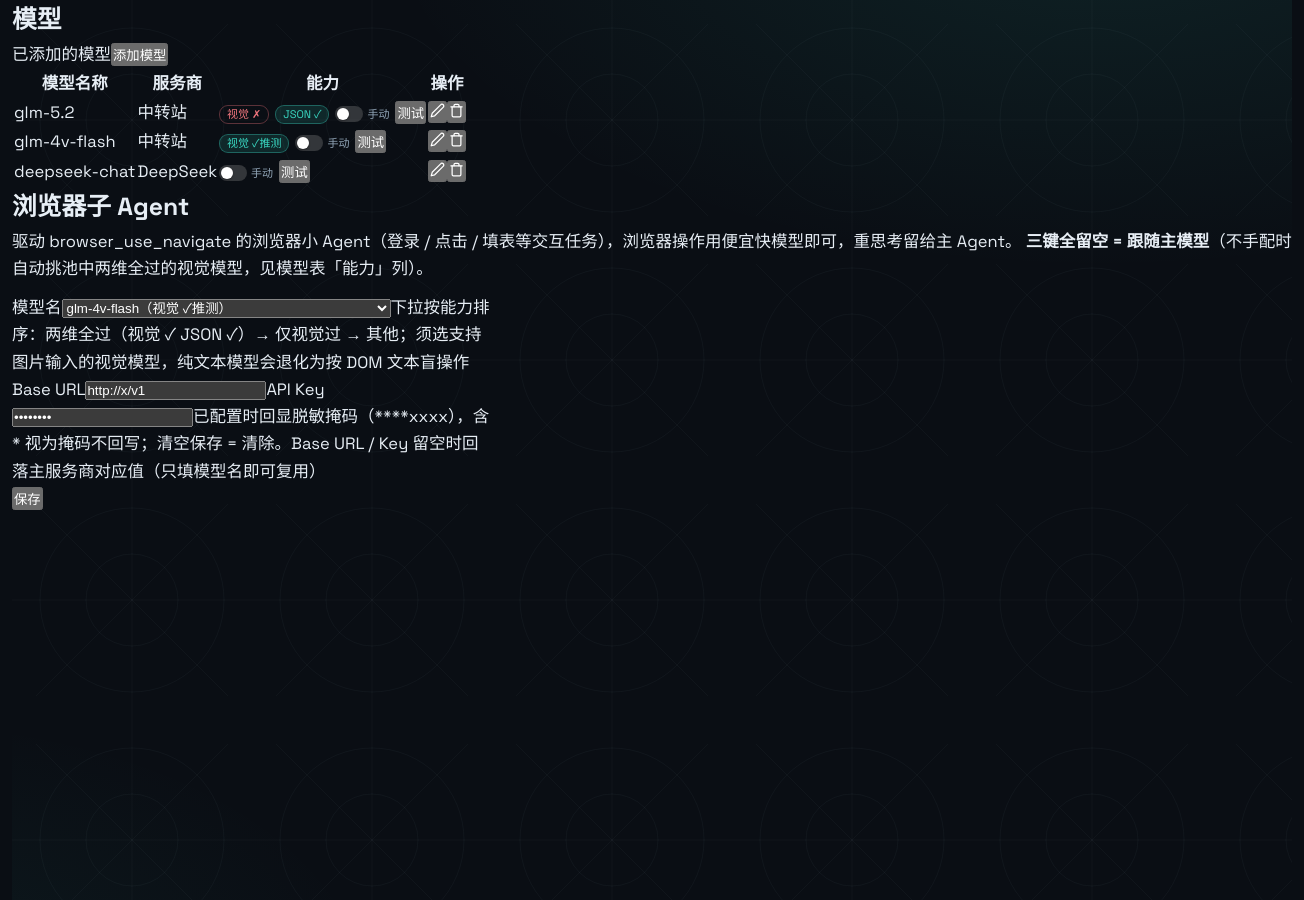
Test: SettingsModels：获取模型列表 › discover 失败展示人话错误
Click the button "添加模型".
click(140, 54)  # box [111, 43, 168, 66]
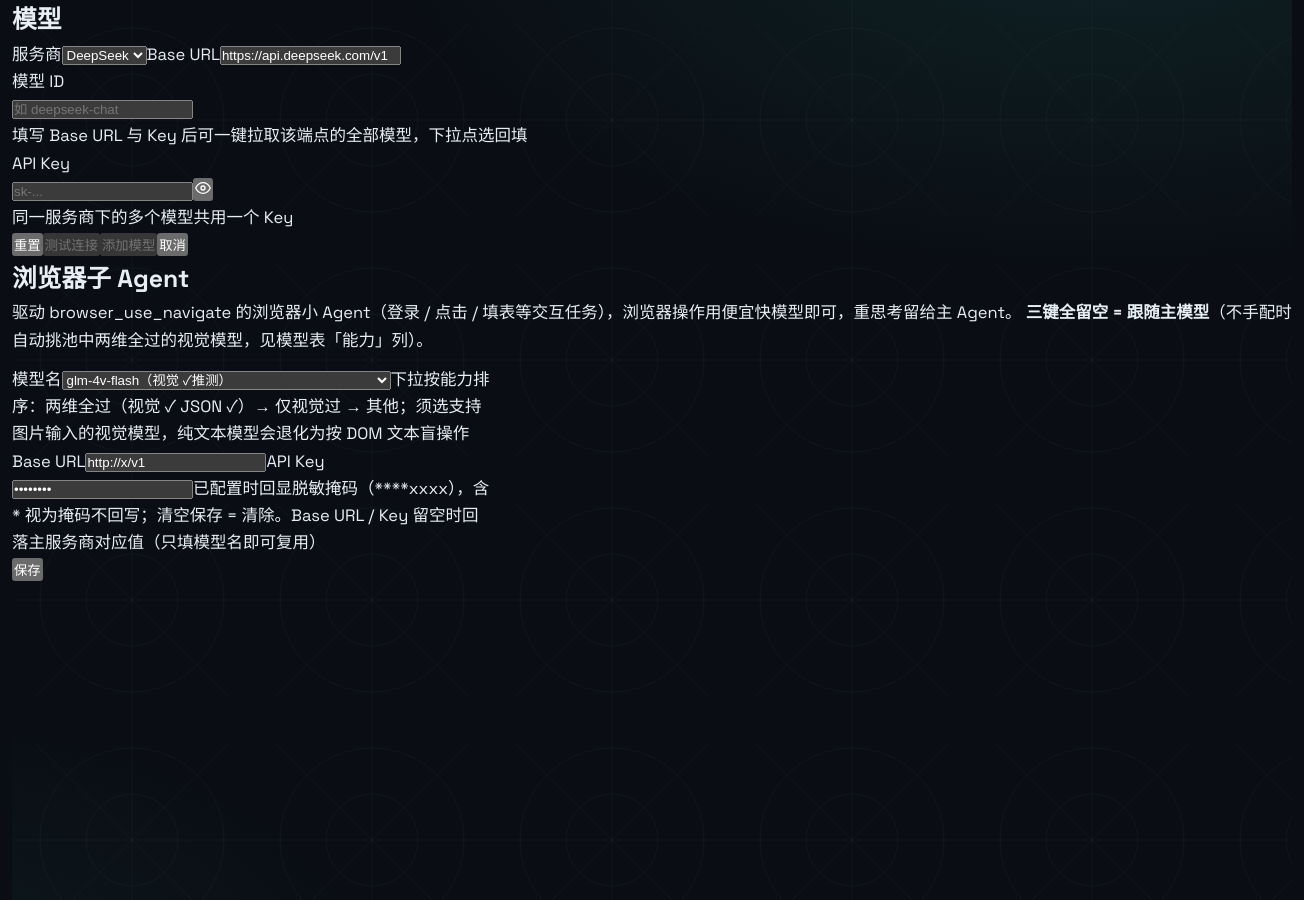
Type "sk-typed" into the password field labelled "API Key 同一服务商下的多个模型共用一个 Key".
click(102, 191); type("sk-typed")  # box [12, 182, 193, 201]
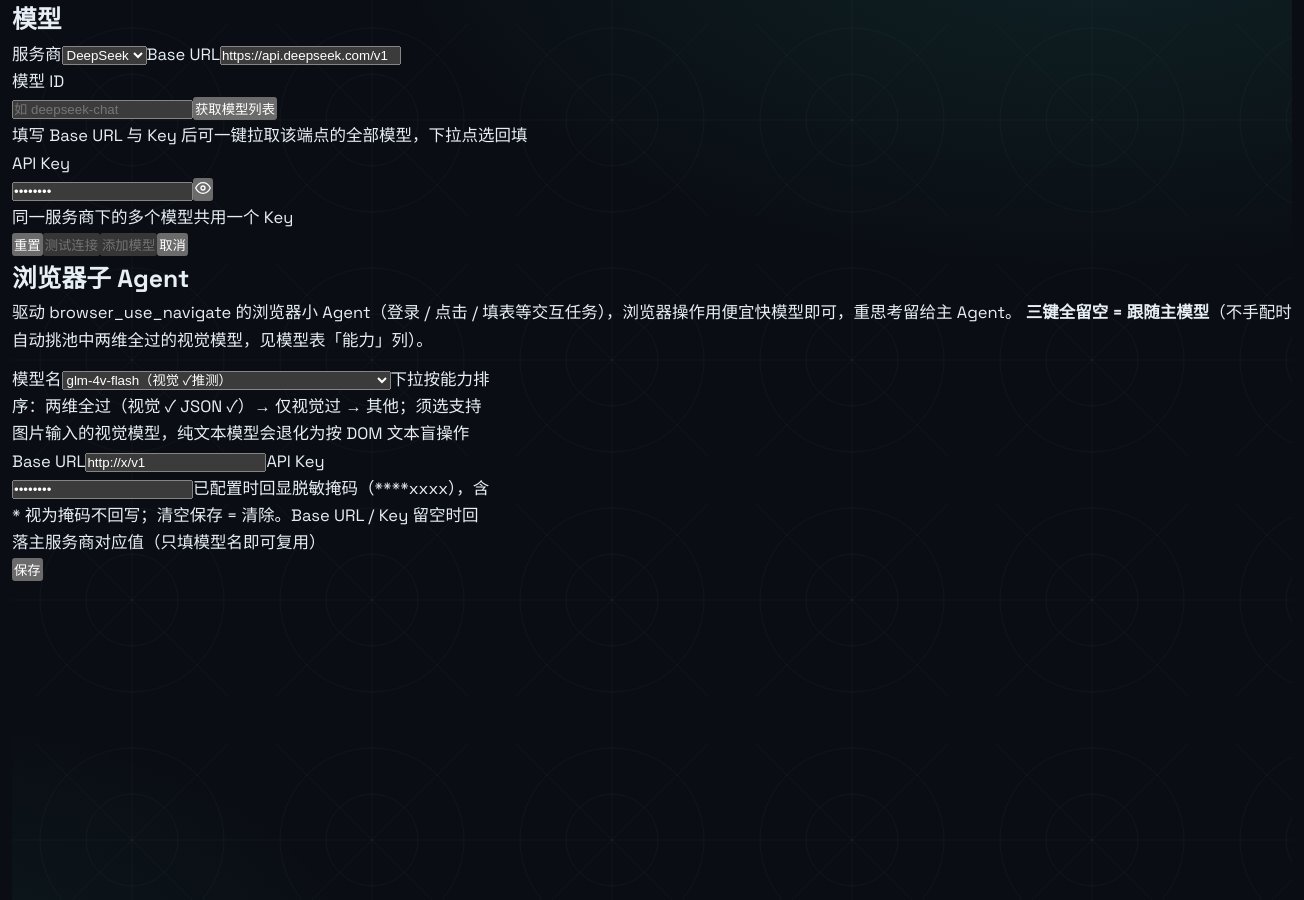
Click the button "获取模型列表".
click(235, 109)  # box [193, 97, 277, 120]
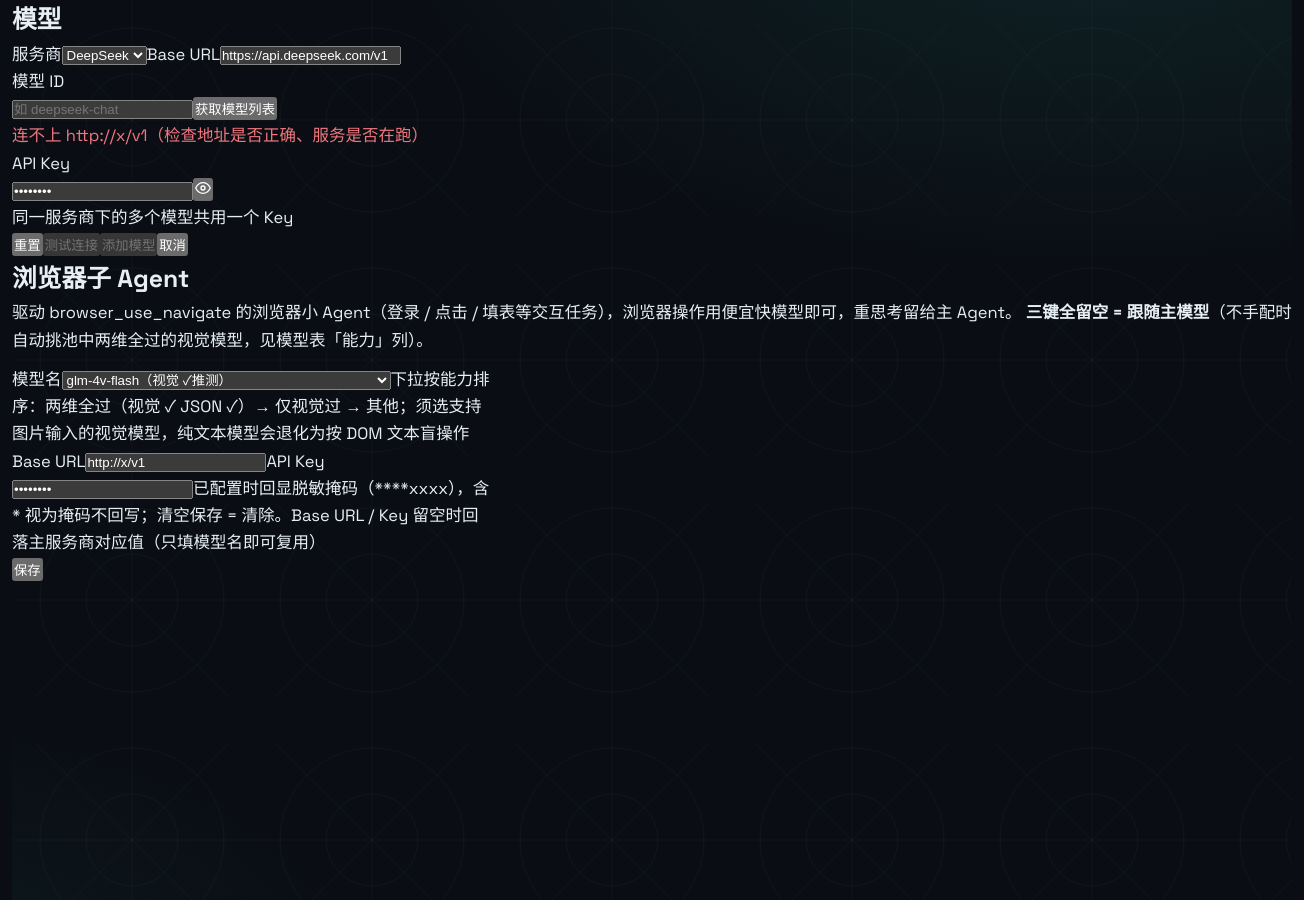
Now the text "连不上" is shown, box [12, 126, 428, 146]
